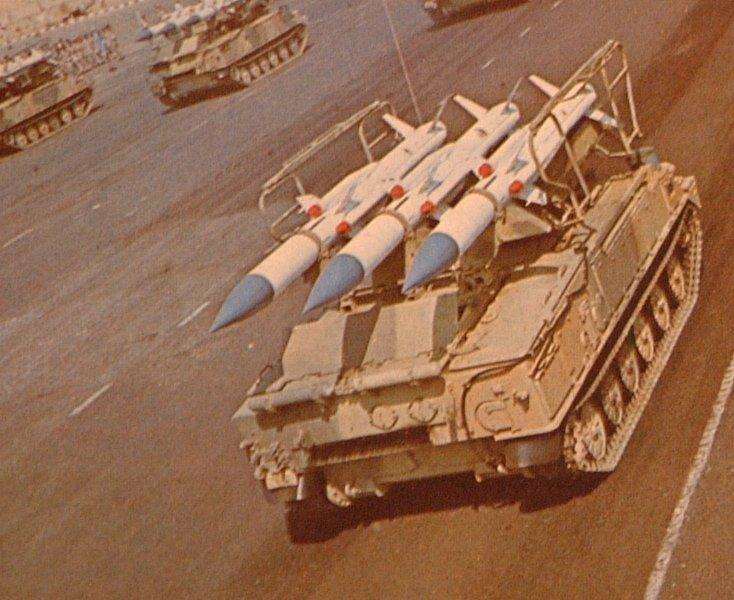armored_car: (209, 35, 706, 516)
